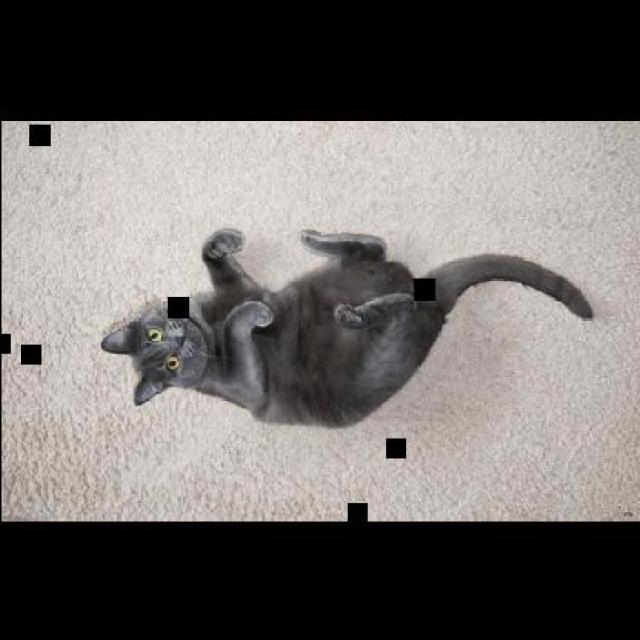unauthorized: (98, 226, 594, 428)
